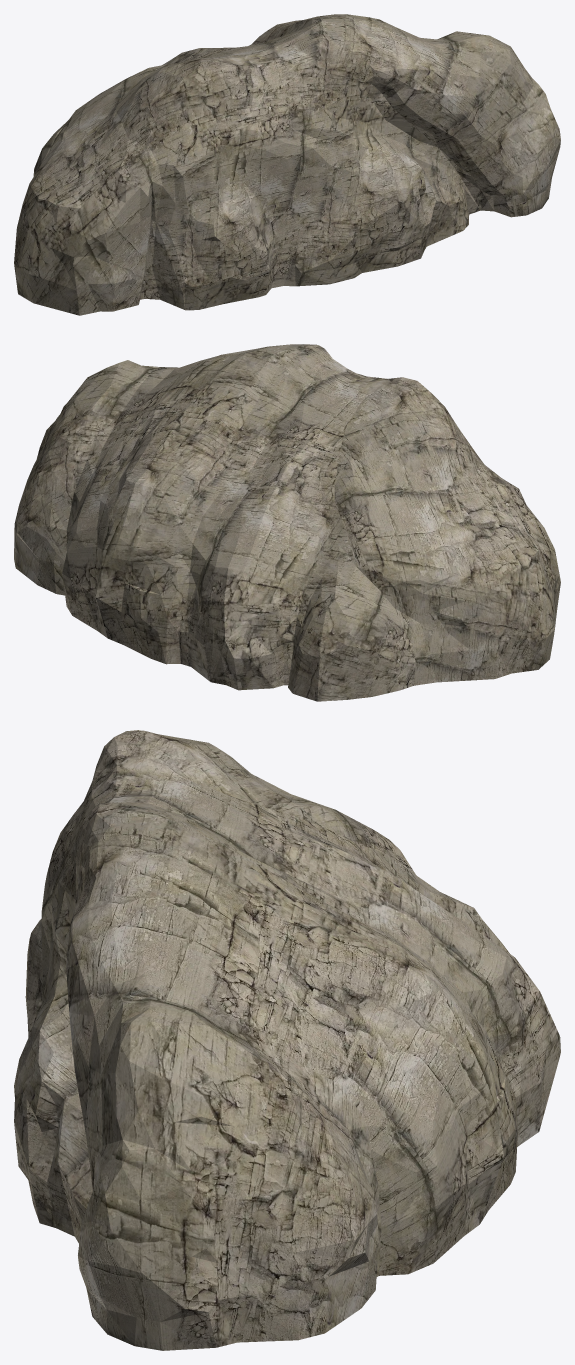
Rendered from tw2_1_rock_05_11-transformed.glb.
The picture shows the model from 3 angles, top to bottom: view 1: azimuth 30°, elevation 25°; view 2: azimuth 150°, elevation 25°; view 3: azimuth 270°, elevation 25°; orthographic projection. The views are drawn at different scales.
Parts seen in each view (by area): view 1: default; view 2: default; view 3: default.
Boxes of the visible parts, x1,y1,x2,y2 form: default: (14,14,560,315); default: (14,344,560,701); default: (14,730,560,1350).
Size of the model in its own units: 61.87 by 25.93 by 35.61.
Materials: 1 (1 with a texture image).
